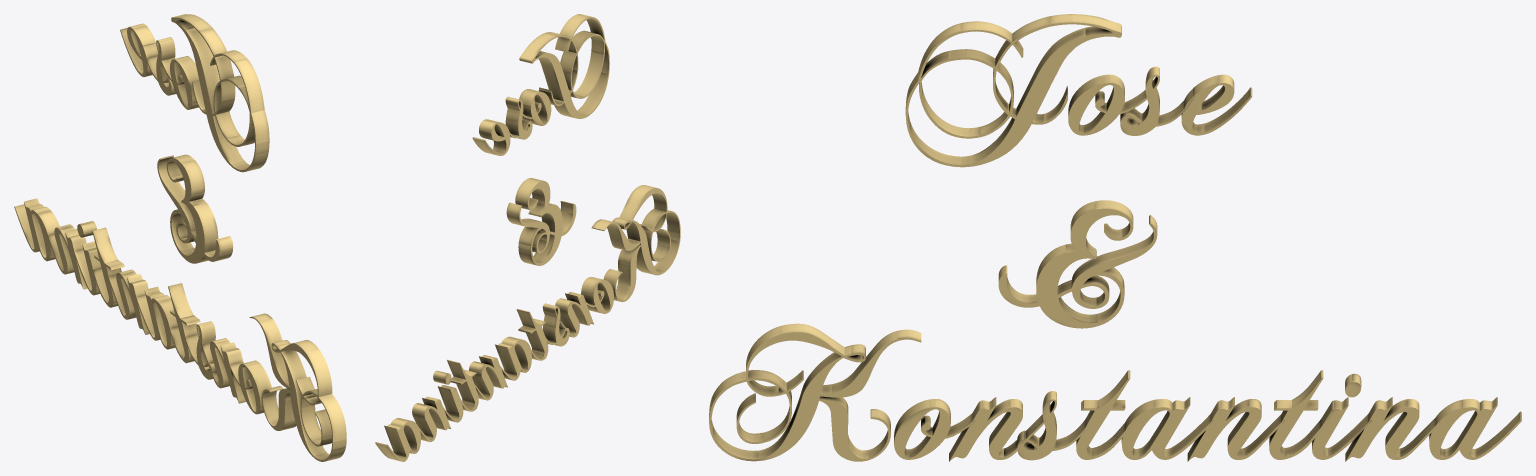
Rendered from NombresBasicosSubtanceNoMetallic.gltf.
3 renders of one model, left to right at view 1: azimuth 30°, elevation 25°; view 2: azimuth 150°, elevation 25°; view 3: azimuth 270°, elevation 25°, orthographic. The views are drawn at different scales.
Visible parts, largest first — view 1: TextPlus001; view 2: TextPlus001; view 3: TextPlus001.
Boxes of the visible parts, x1,y1,x2,y2 form: TextPlus001: (14,14,346,461); TextPlus001: (375,14,680,461); TextPlus001: (709,14,1521,461).
Size of the model in its own units: 0.0839 by 2.03 by 3.41.
1 material, 1 textured.
